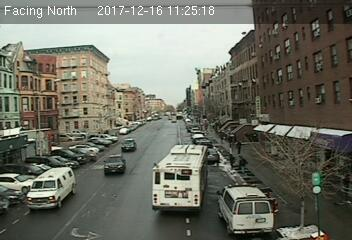bus: (150, 143, 209, 214)
car: (103, 153, 127, 174), (121, 138, 137, 151)
pedestrian: (239, 153, 250, 174), (228, 153, 237, 175)
police: (215, 182, 273, 237)
truck: (23, 166, 75, 209)
